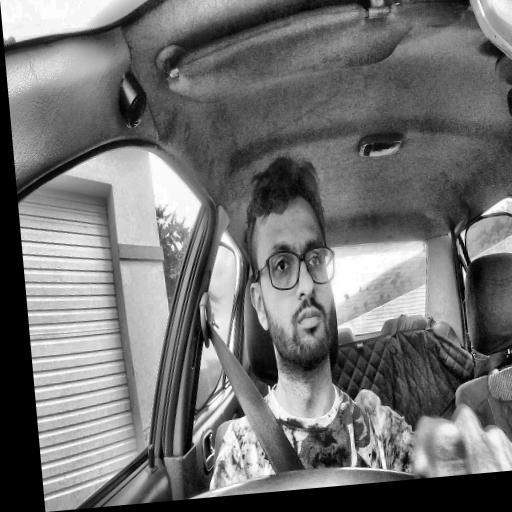awake: (238, 149, 346, 383)
